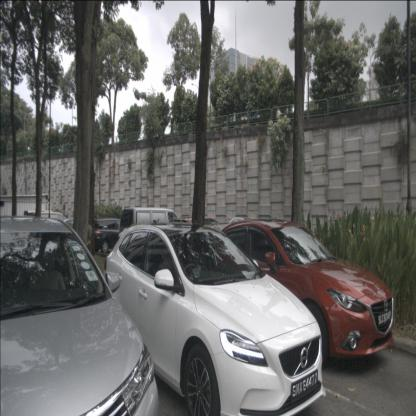vehicle-car: (104, 223, 326, 415), (0, 216, 160, 415), (192, 218, 394, 371), (119, 208, 178, 255), (88, 218, 139, 254)
vehicle-truck: (0, 194, 51, 246)
